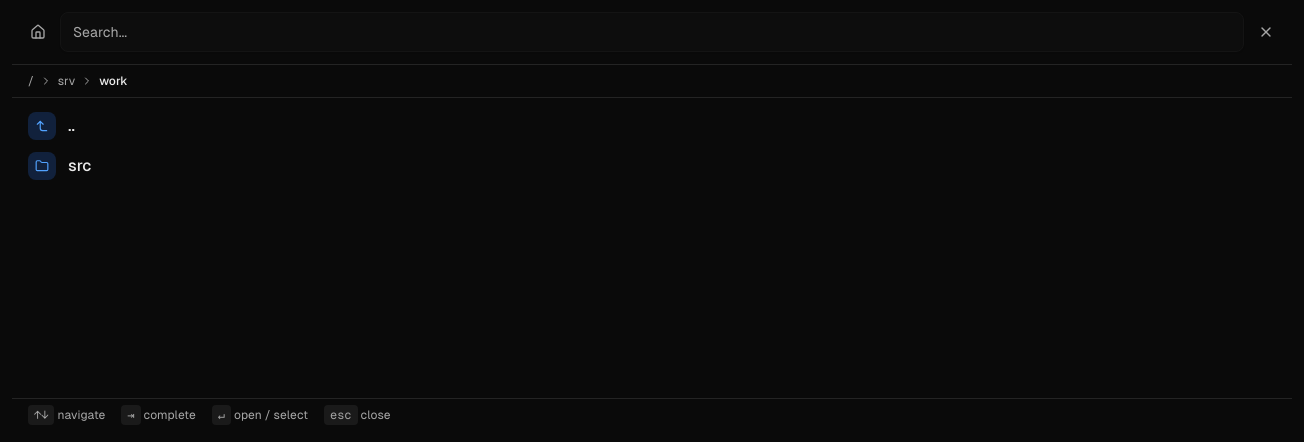
Test: FileBrowser grounding and navigation › drills into a subfolder and returns to the base listing when cleared
The width and height of the screenshot is (1304, 442).
Check: the text "src" is shown, box left=68, top=156, right=92, bottom=175
Drilling in lists the subfolder.
Step 1. Click the button "src" → (42, 166), box left=12, top=146, right=1292, bottom=186
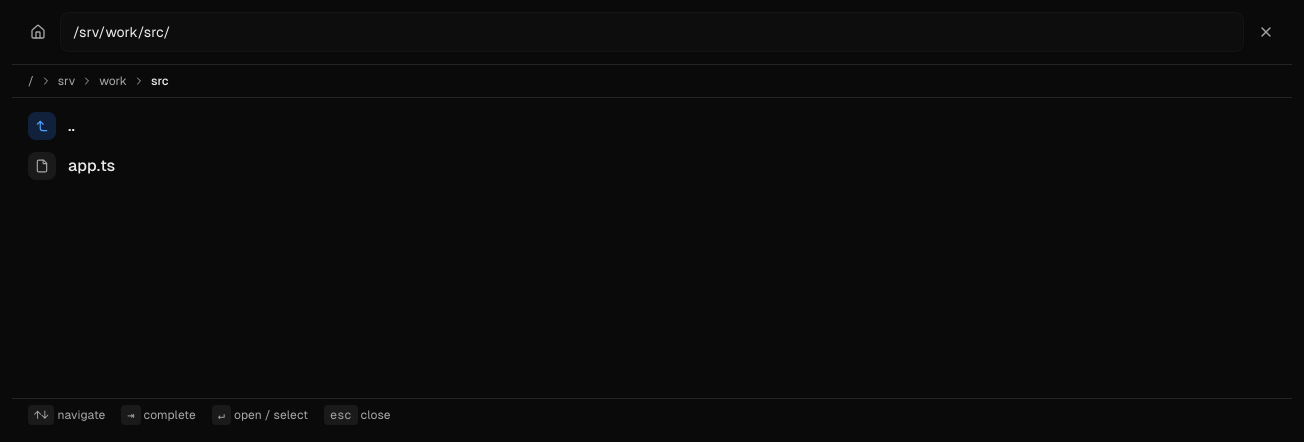
Check: the text "app.ts" is shown, box left=68, top=156, right=115, bottom=175
Clearing the input returns to the base listing.
Step 2. Clear the field with placeholder "Search..." → (652, 32), box left=60, top=12, right=1244, bottom=52
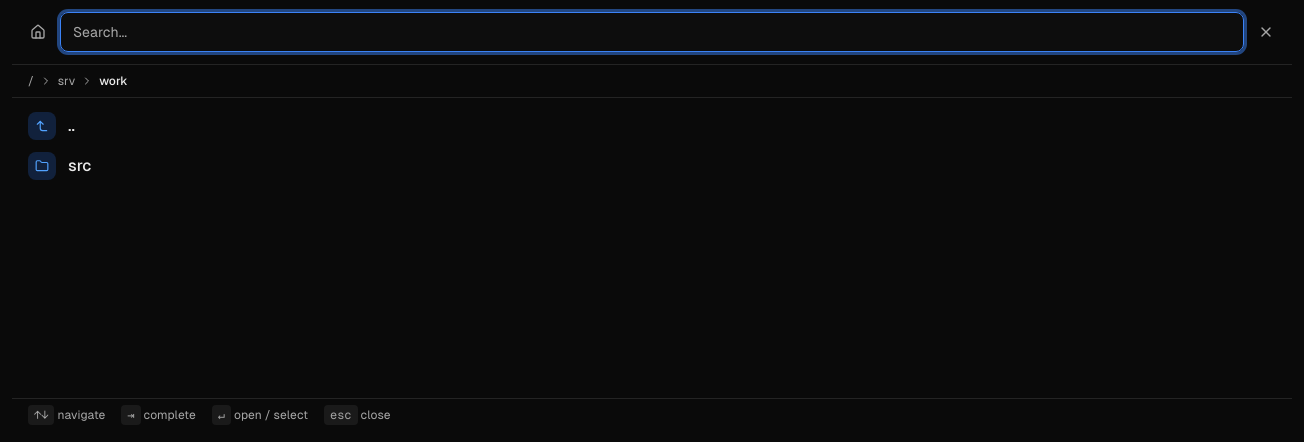
Check: the text "src" is shown, box left=68, top=156, right=92, bottom=175
Check: the button "app.ts" is gone
